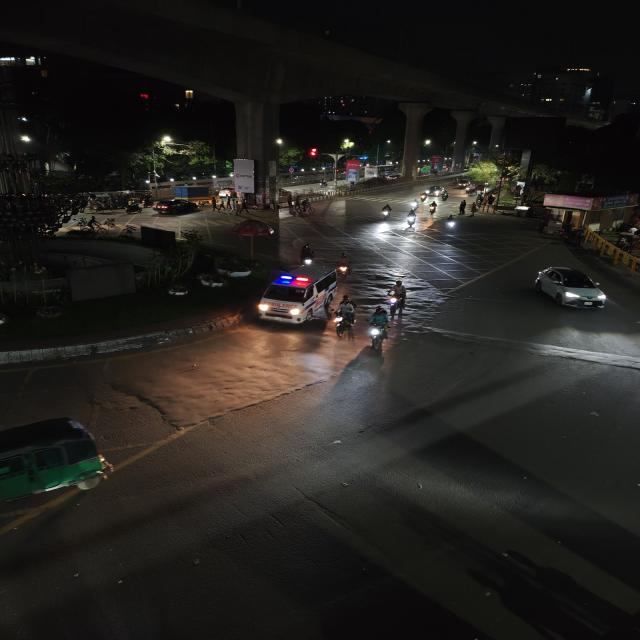bicycle: (296, 197, 318, 215)
car: (253, 264, 349, 326), (530, 263, 612, 315), (151, 197, 206, 216), (426, 184, 443, 197)
cng: (0, 415, 115, 523)
motorcycle: (380, 277, 416, 317), (363, 306, 393, 352), (329, 295, 359, 341), (295, 241, 319, 267), (333, 251, 355, 279), (377, 201, 396, 222), (442, 214, 460, 235), (402, 211, 419, 233), (123, 200, 142, 215), (426, 201, 440, 218)
pedestrian: (456, 199, 467, 216), (215, 197, 227, 212), (209, 196, 219, 212), (250, 196, 260, 212), (230, 198, 238, 216), (240, 199, 247, 215)
rickshaw: (228, 218, 278, 242)
